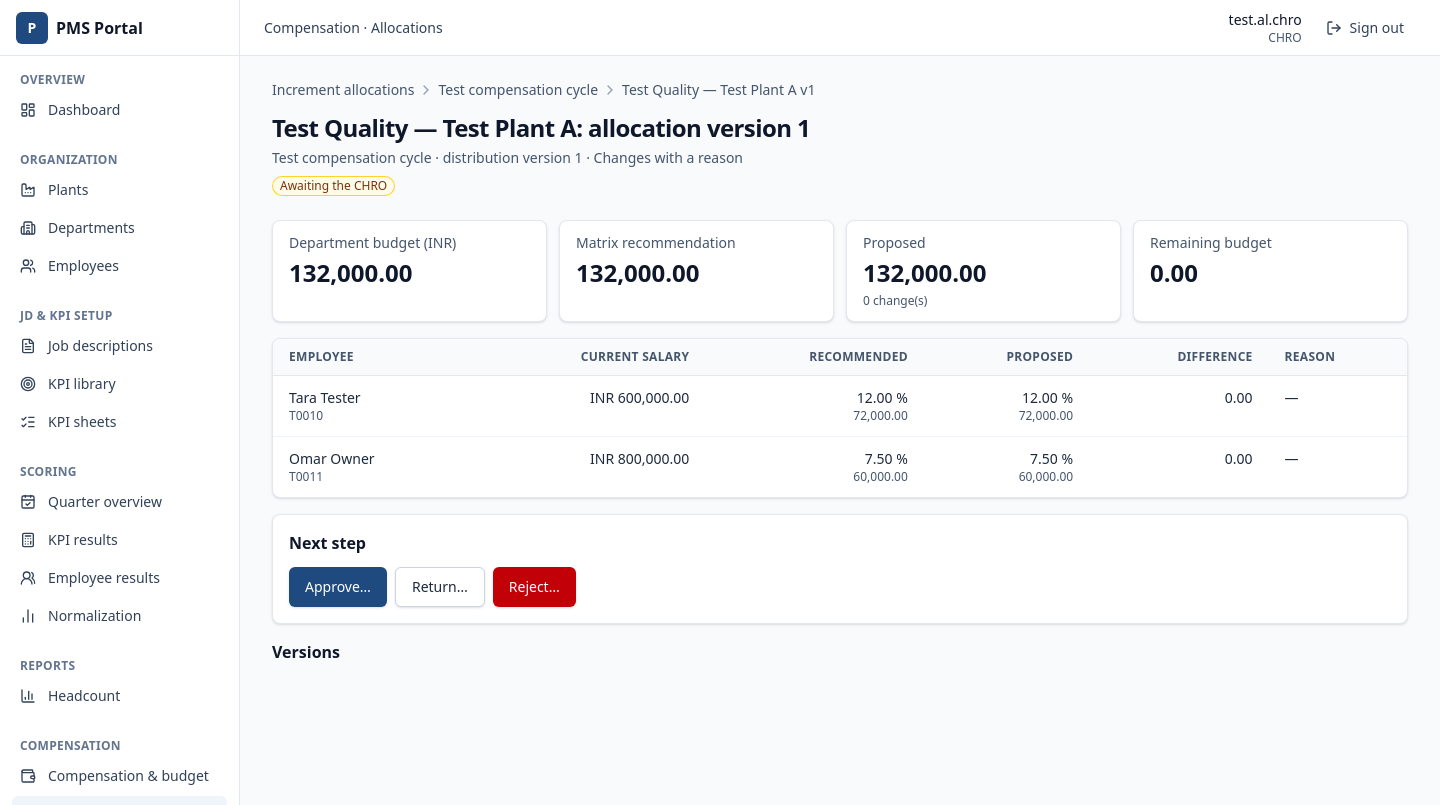
Scenario: allocation proposals › requires a reason before the CHRO approves
The width and height of the screenshot is (1440, 805).
Click the button "Approve…" at x=338, y=587, box left=289, top=567, right=387, bottom=607
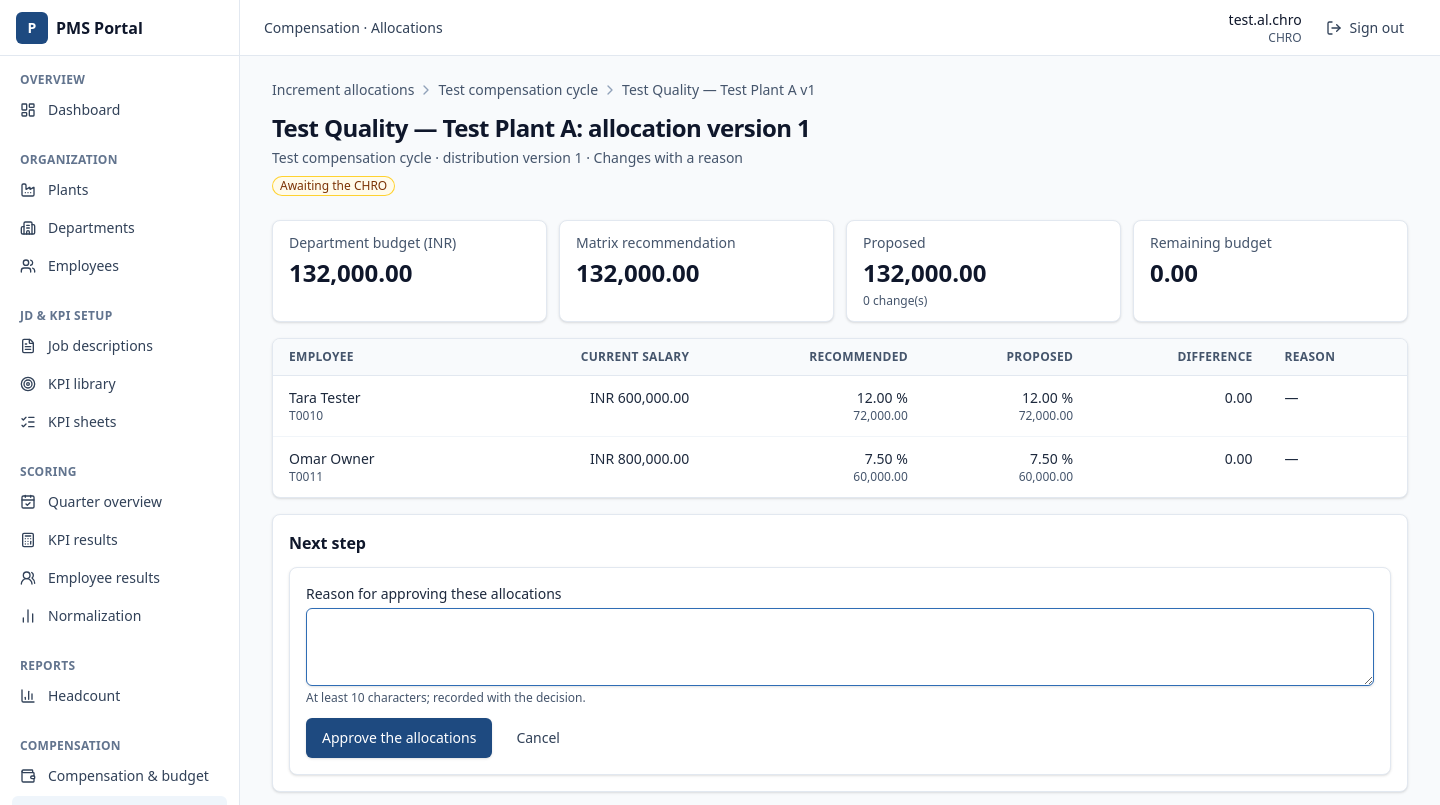
Type "Too short" into the text box labelled "Reason for approving these allocations" at x=840, y=647, box left=306, top=608, right=1374, bottom=686
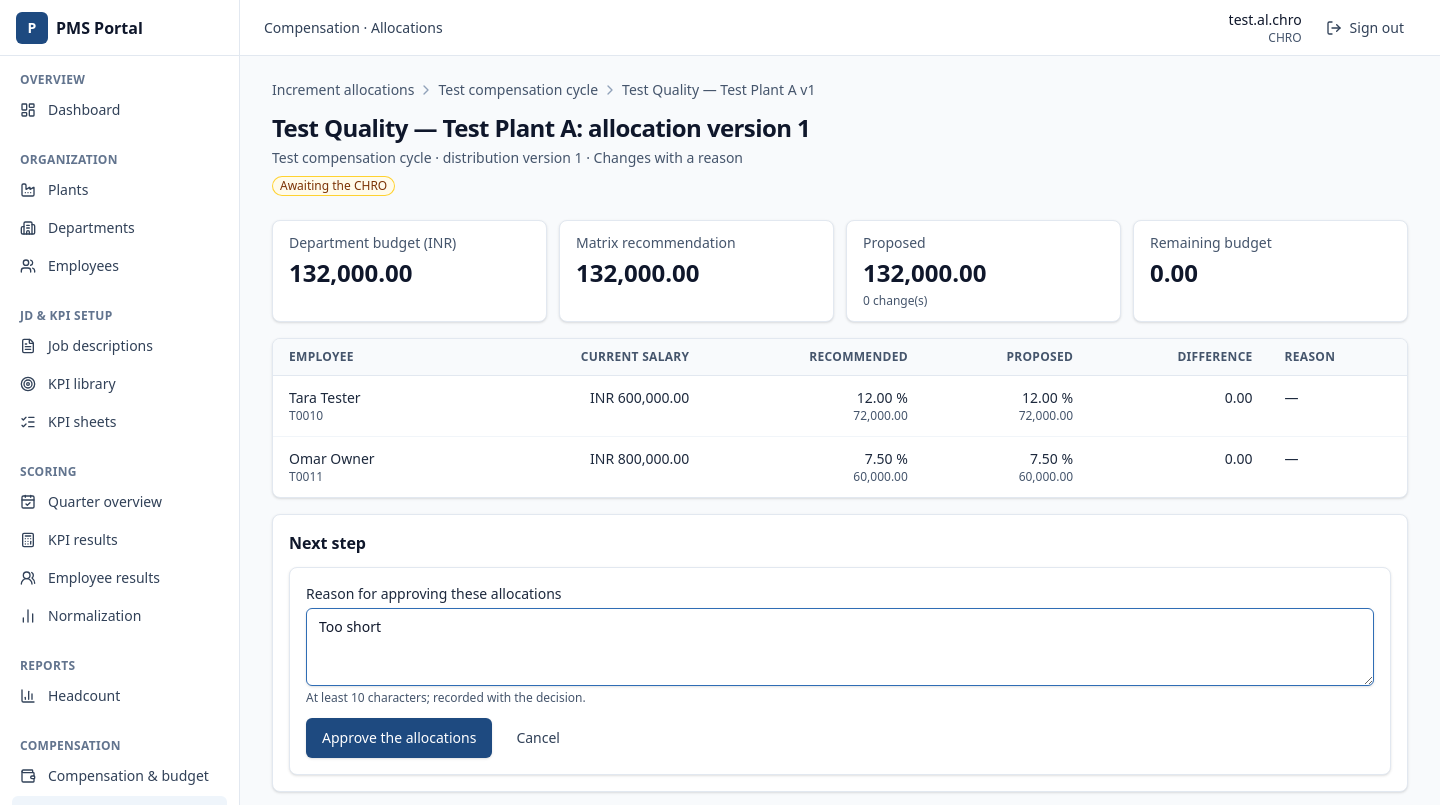
Click the button "Approve the allocations" at x=399, y=738, box left=306, top=718, right=492, bottom=758
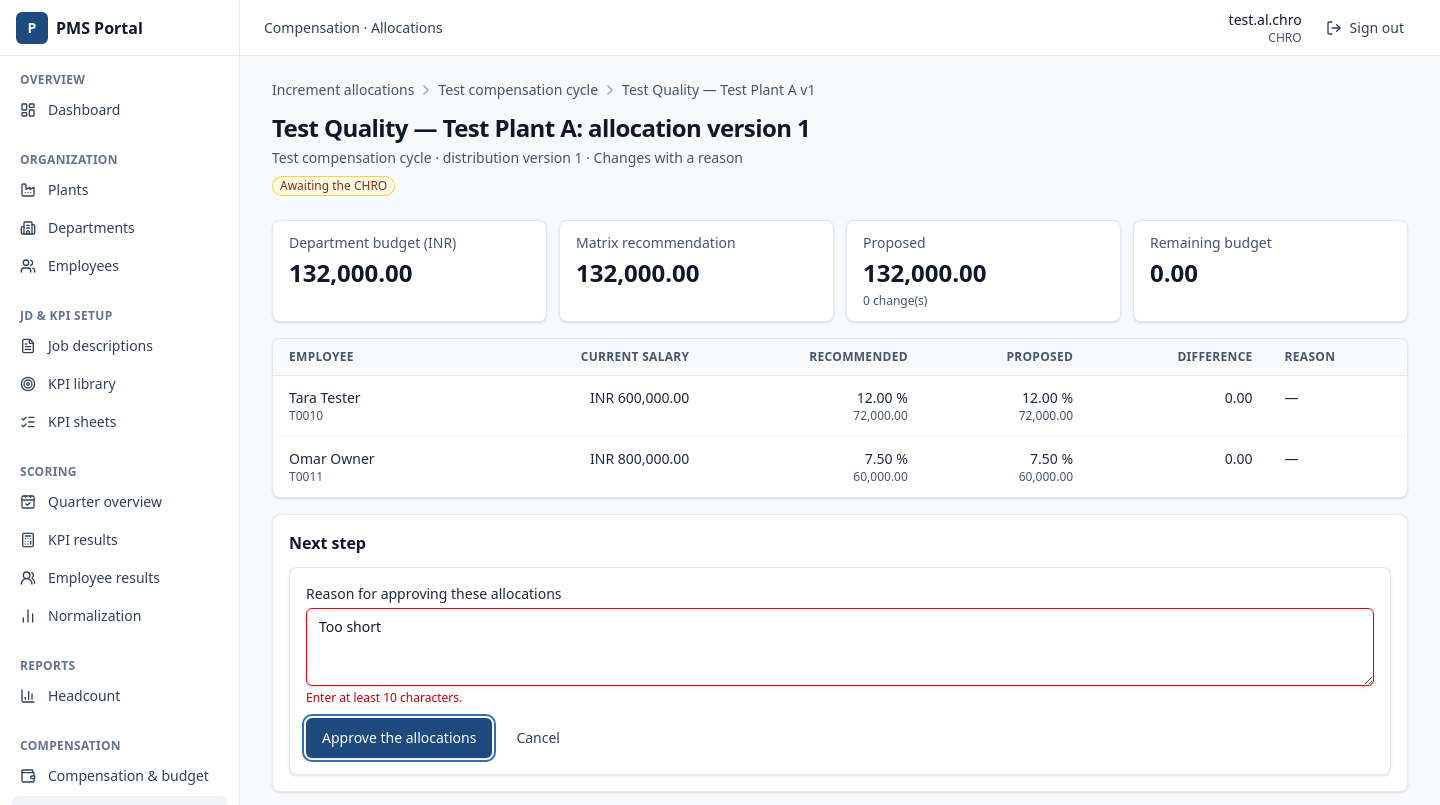
Expected: the text "Enter at least 10 characters." is shown, left=306, top=689, right=462, bottom=706
Type " fine" into the text box labelled "Reason for approving these allocations" at x=840, y=647, box left=306, top=608, right=1374, bottom=686
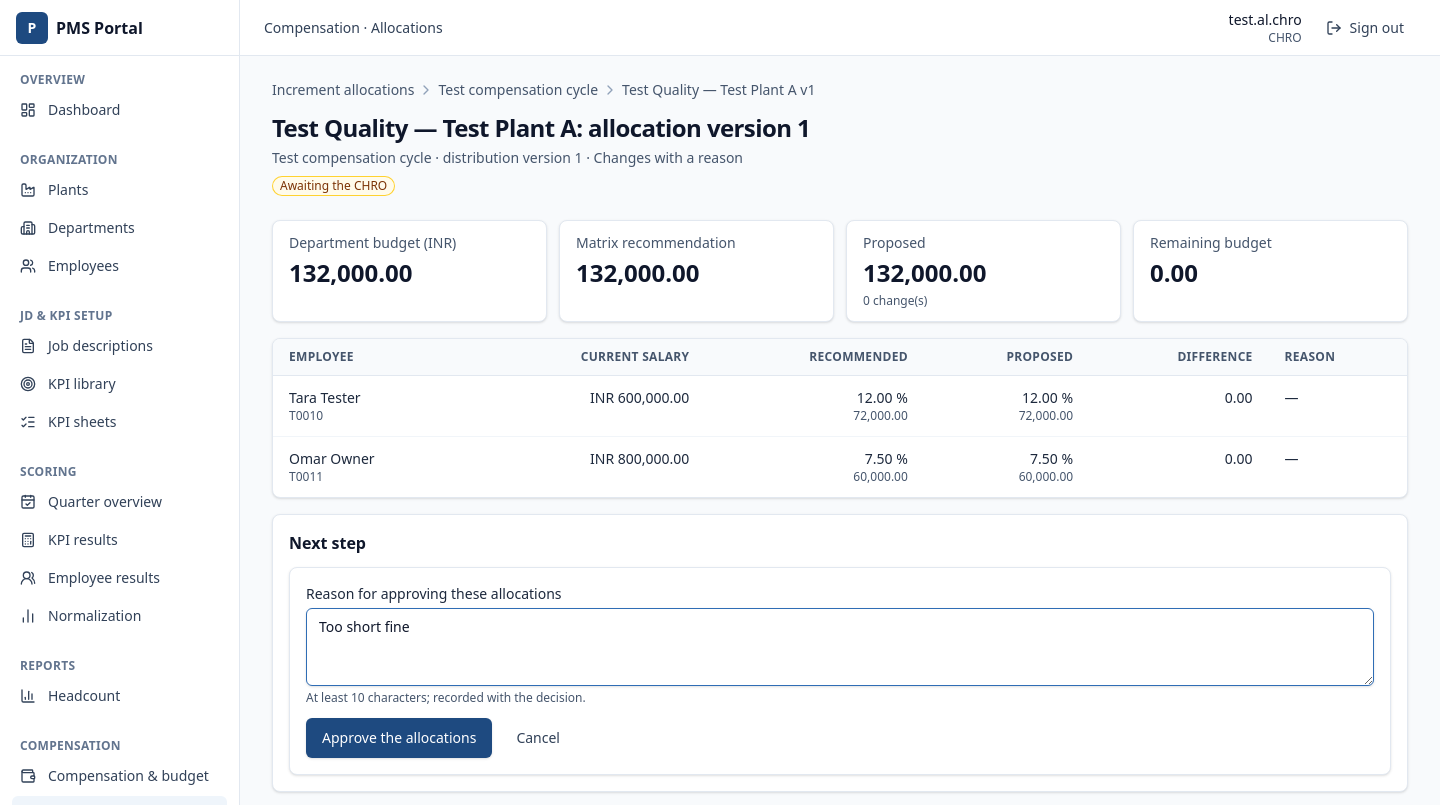
Click the button "Approve the allocations" at x=399, y=738, box left=306, top=718, right=492, bottom=758
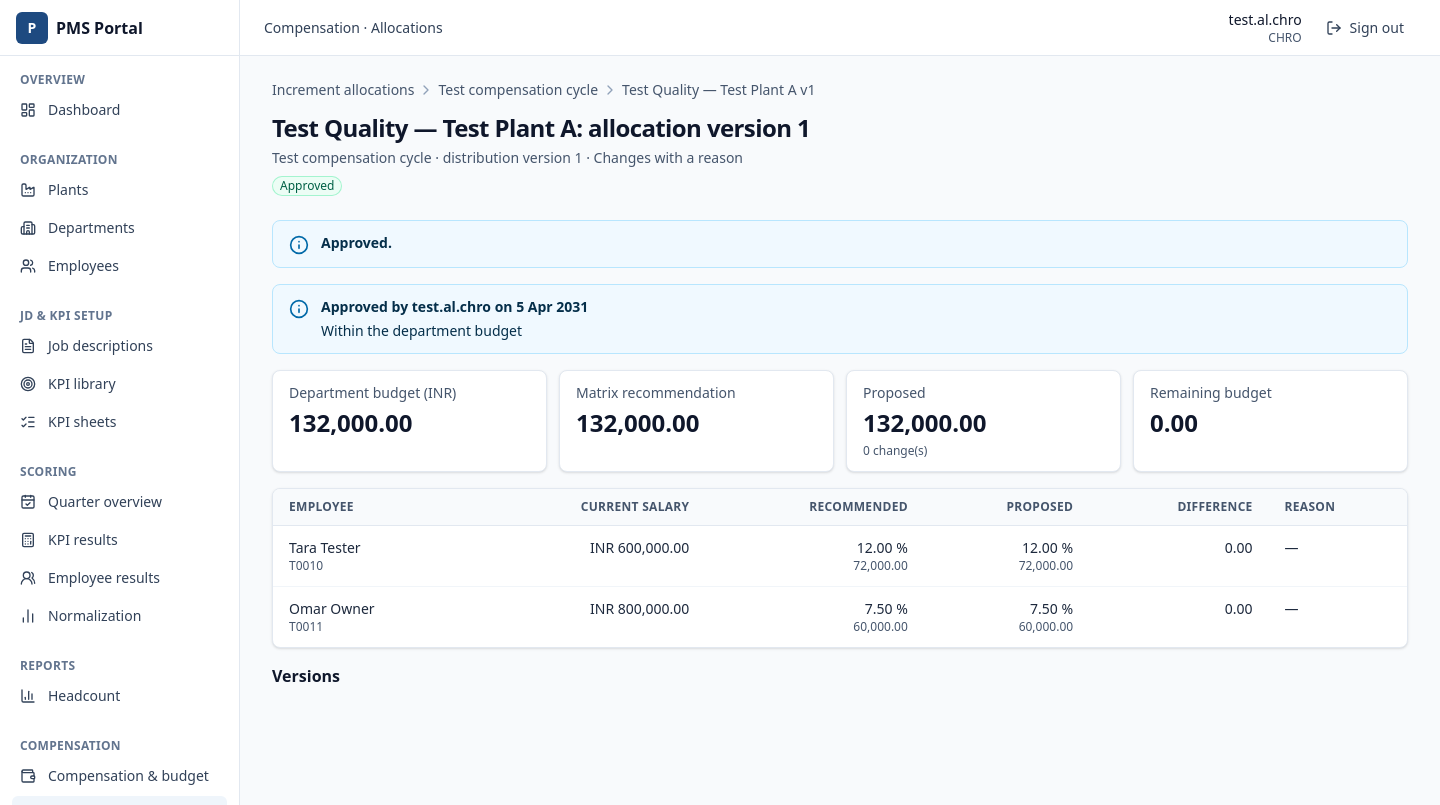
Expected: the text "Approved." is shown, left=321, top=233, right=392, bottom=252
